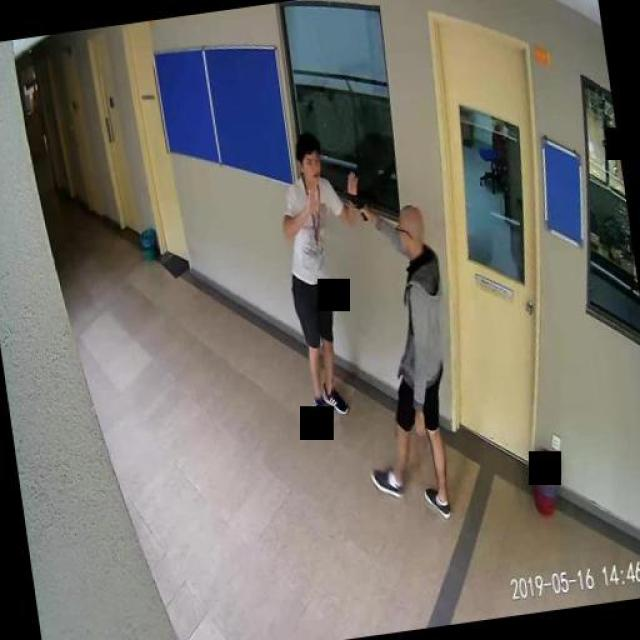gun: (342, 186, 368, 224)
